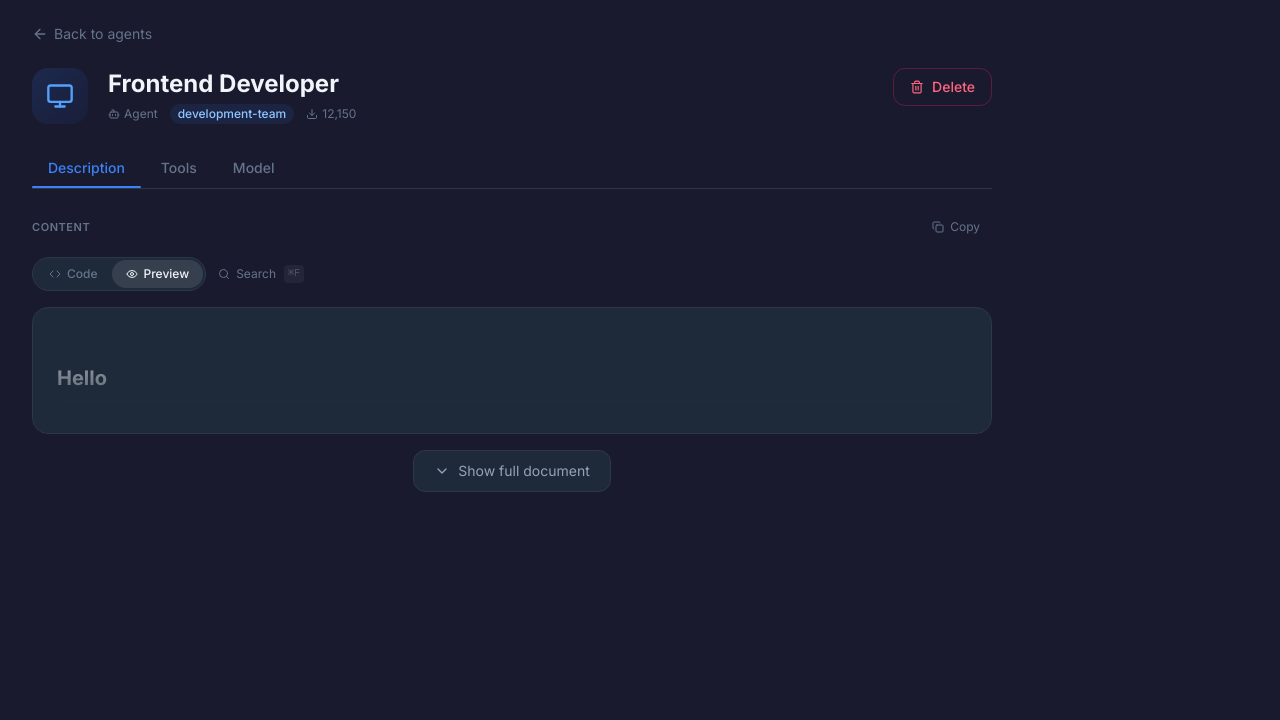
Test: AgentDetailPage delete flow with references › opens the references modal when at least one template references the agent
Click the button with aria-label "delete this agent" at (943, 87), box [893,68,992,106]
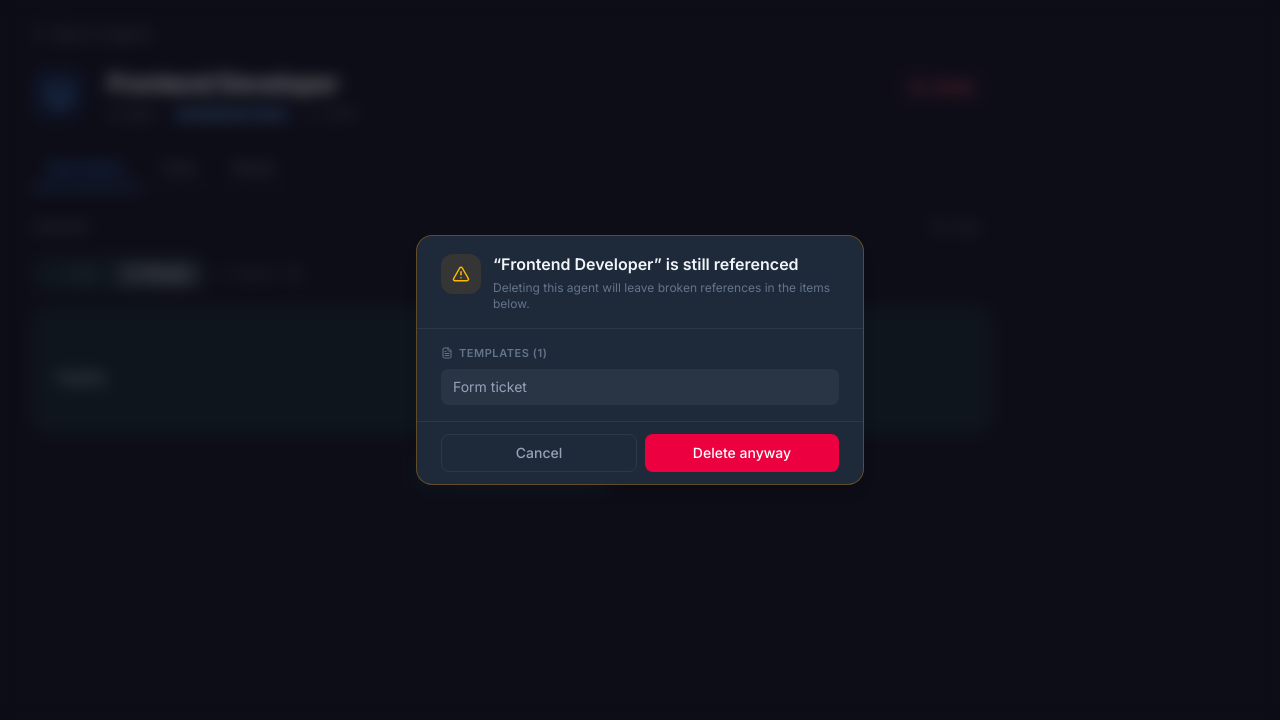
Check: the button "Delete anyway" is shown, box [645,434,839,472]
Check: the list item "Form ticket" is shown, box [441,369,839,405]
